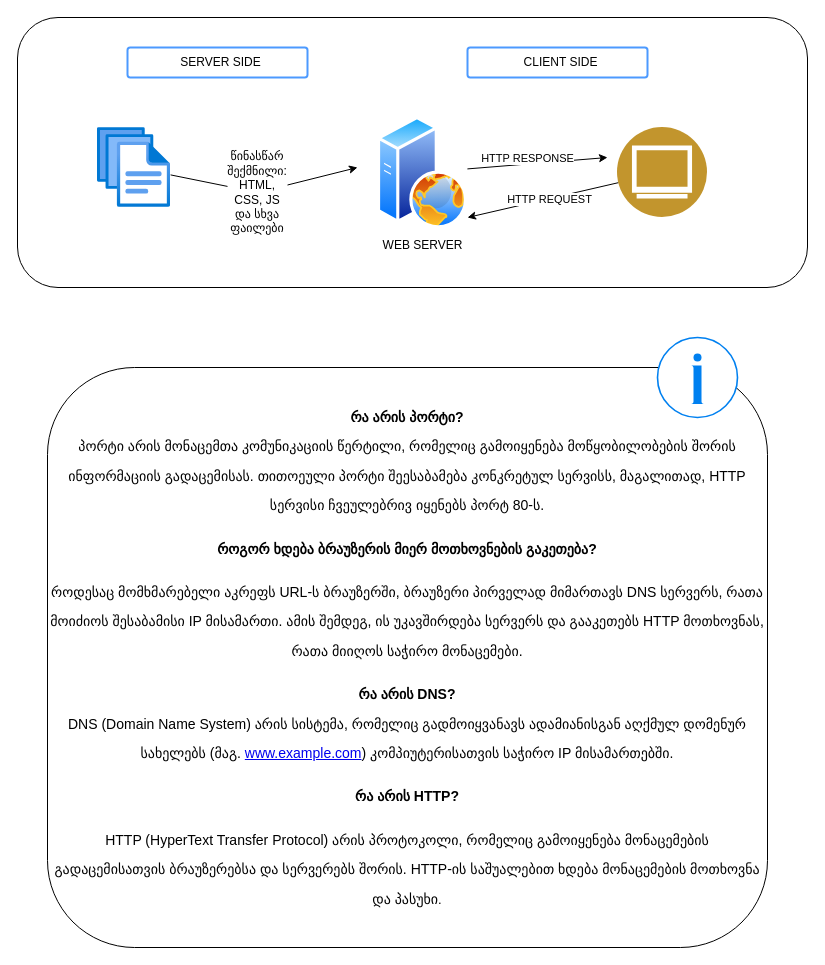
Image size: 825x965. Some labels were removed from this diagram. Each missing label, with the centre of its shape:
BROWSER: (662,172)
FILES: (133,167)
